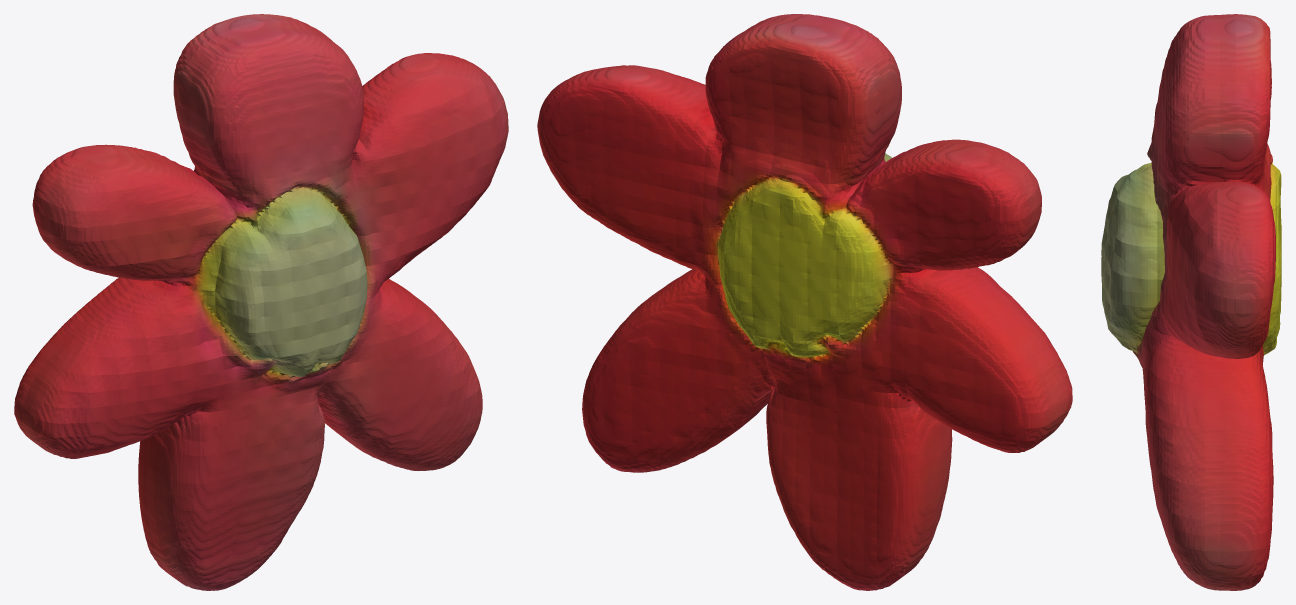
3 renders of one model, left to right at view 1: azimuth 30°, elevation 25°; view 2: azimuth 150°, elevation 25°; view 3: azimuth 270°, elevation 25°, orthographic.
Parts seen in each view (by area): view 1: world; view 2: world; view 3: world.
Boxes of the visible parts, x1,y1,x2,y2 form: world: (14, 14, 508, 590); world: (537, 14, 1072, 590); world: (1101, 14, 1281, 590).
Bounding box in the file's own units: 0.9812 × 1.03 × 0.3125.
